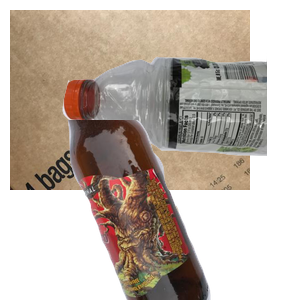cardboard: (10, 10, 250, 190)
glass: (65, 120, 300, 300)
plastic: (60, 53, 300, 201)
trash: (96, 181, 277, 300)
